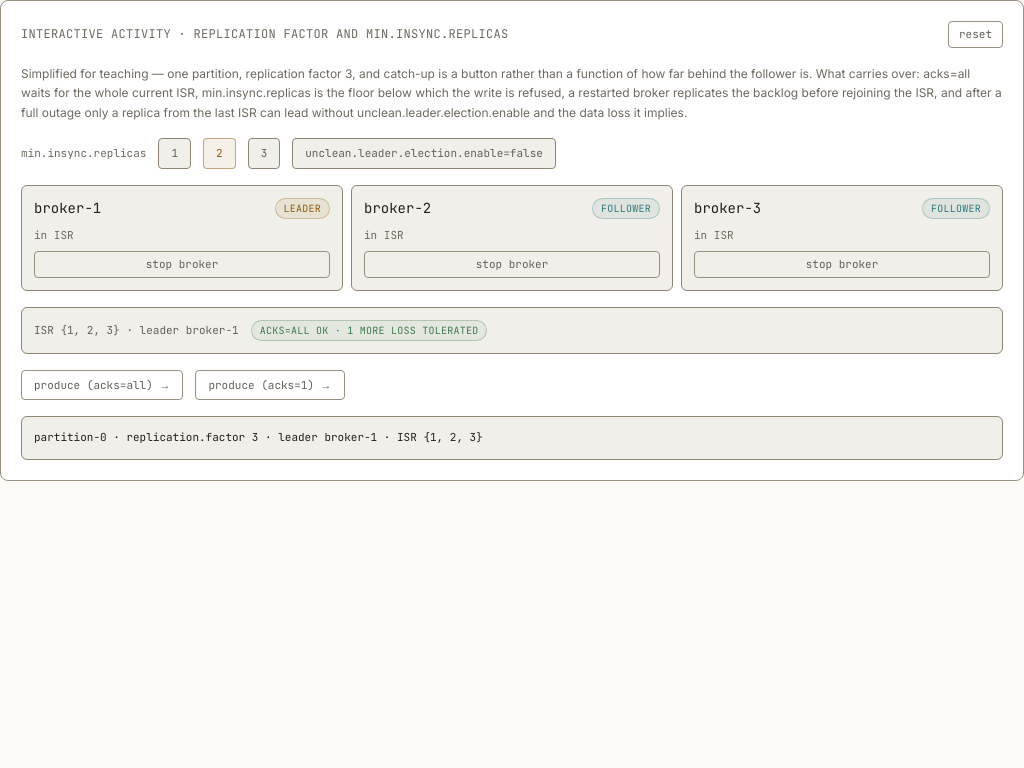
ReplicationFloorDemo › a restarted broker catches up before rejoining the ISR and does not reclaim leadership
The image size is (1024, 768).
Click the 1st button "stop broker".
click(182, 264)  # box [34,251,330,278]
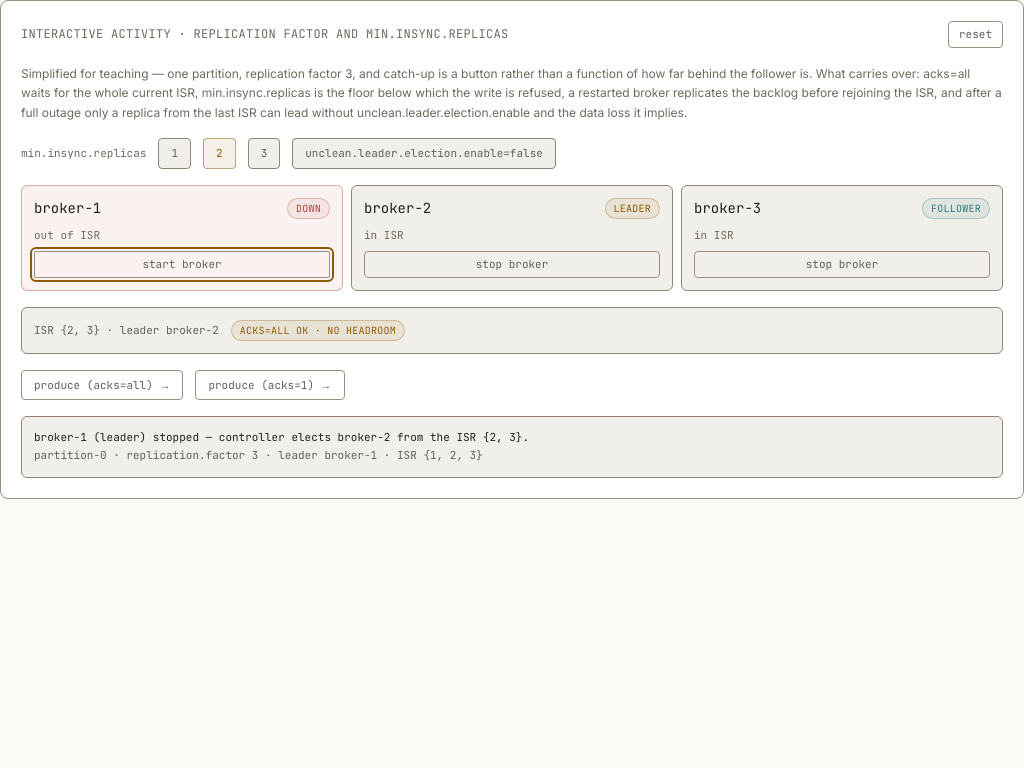
Expected: the text with test id "isr-summary" shows "leader broker-2", [34,322,219,338]
Click the button "start broker".
click(182, 264)  # box [34,251,330,278]
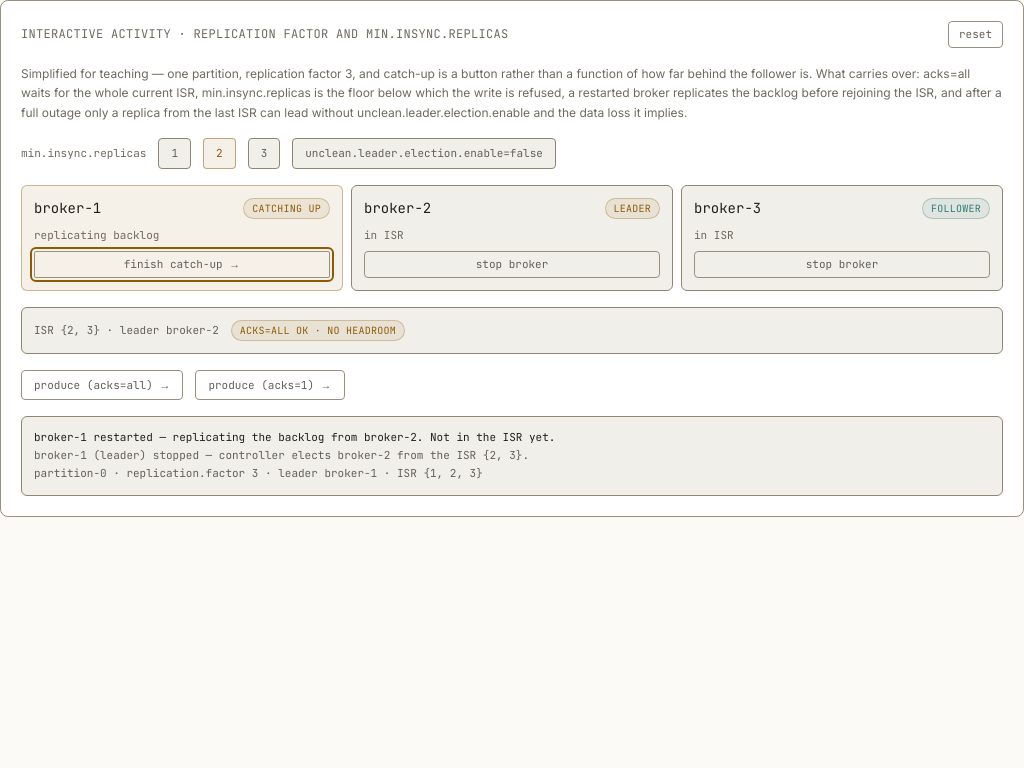
Expected: the text with test id "isr-summary" shows "ISR {2, 3}", [34,322,219,338]
Expected: the text "catching up" is shown, [243,198,330,218]
Click the button "finish catch-up →".
click(182, 264)  # box [34,251,330,278]
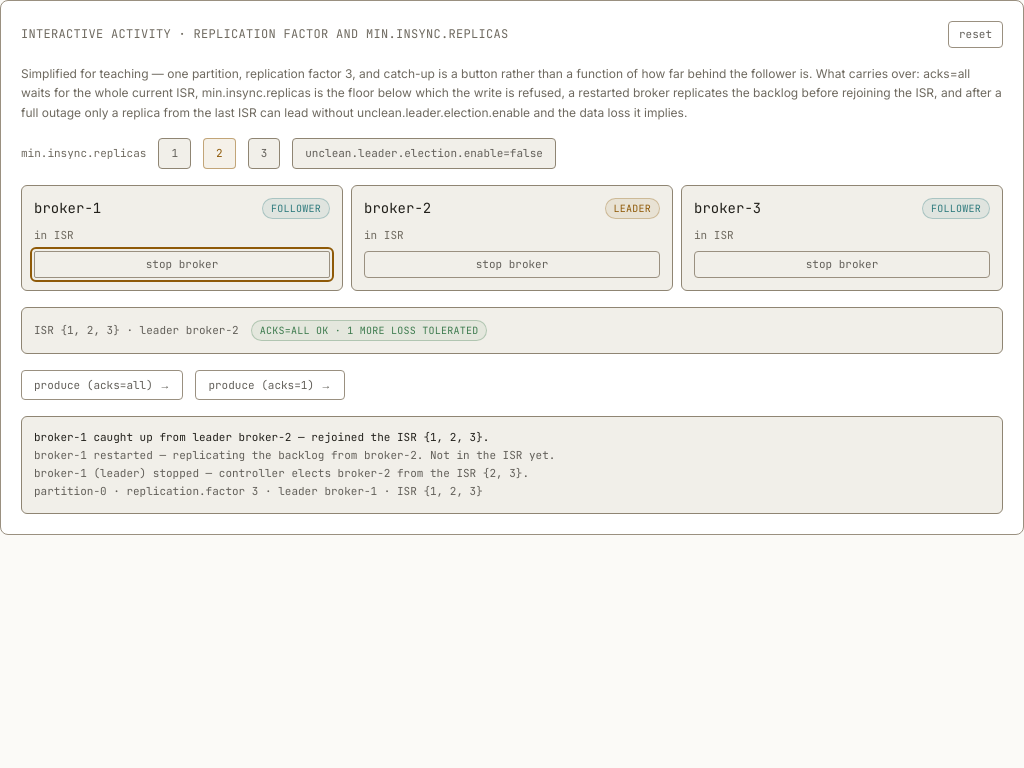
Expected: the text with test id "isr-summary" reads "ISR {1, 2, 3} · leader broker-2", [34,322,239,338]
